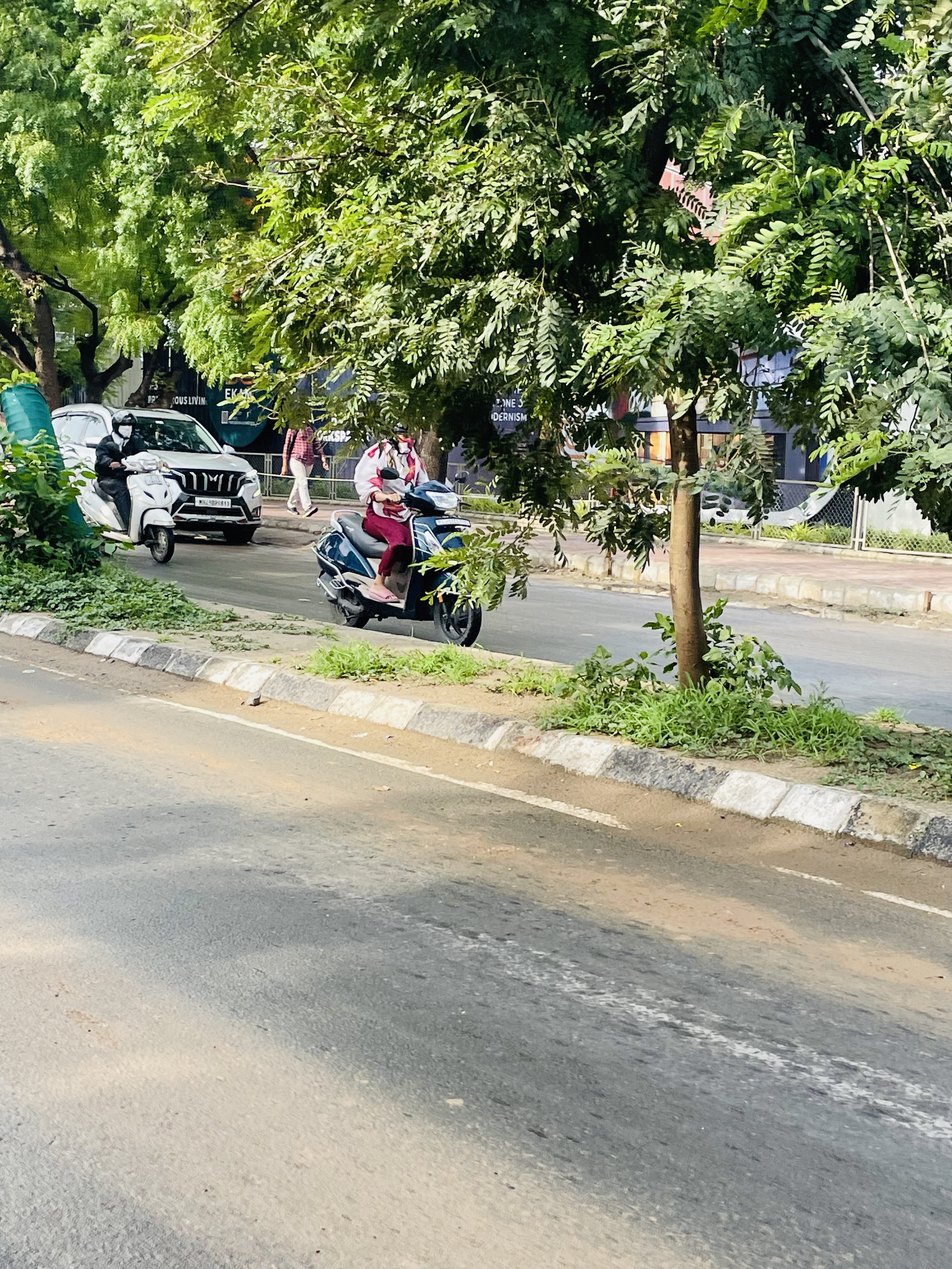BikeWithRider: (305, 406, 493, 654), (70, 395, 194, 574)
Helmet: (105, 406, 145, 446)
